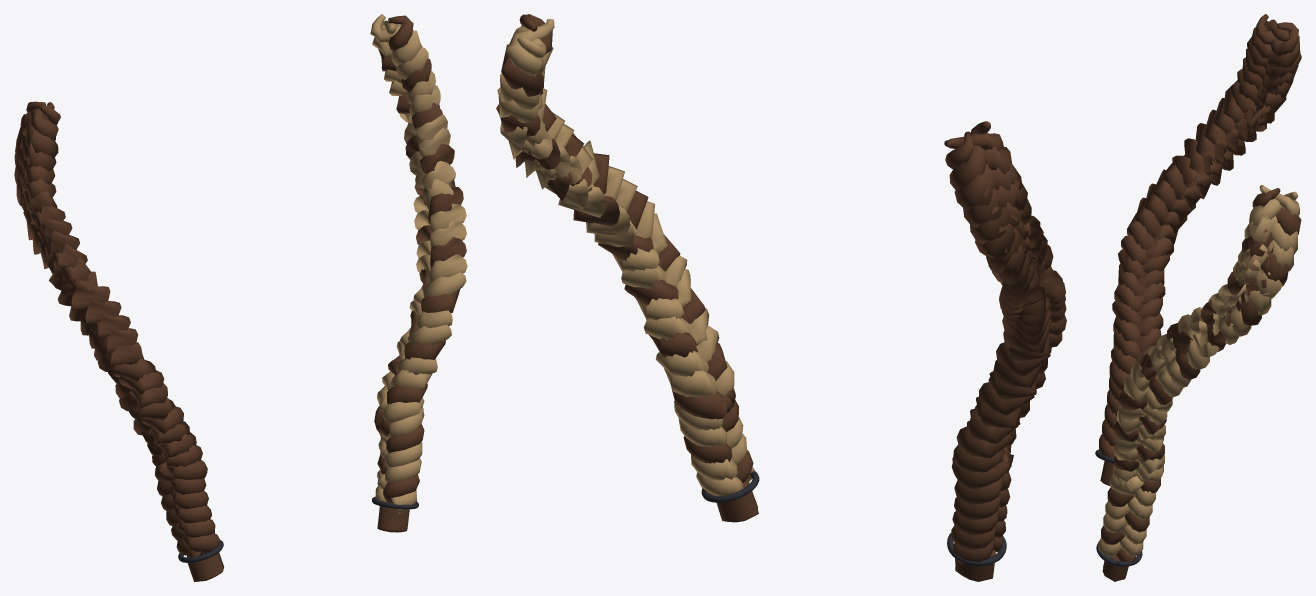
The model's file is Highlights-8e4863687820251-hair.glb.
3 views of the same model, side by side, from view 1: azimuth 30°, elevation 25°; view 2: azimuth 150°, elevation 25°; view 3: azimuth 270°, elevation 25° (orthographic). The views are drawn at different scales.
Visible parts, largest first — view 1: 226 hairLengths / Hair / chestnut226, 226 hairLengths / Hair / ties226; view 2: 226 hairLengths / Hair / chestnut226, 226 hairLengths / Hair / ties226; view 3: 226 hairLengths / Hair / chestnut226, 226 hairLengths / Hair / ties226.
Boxes of the visible parts, left/top/right/bottom form: 226 hairLengths / Hair / chestnut226: left=14, top=14, right=467, bottom=581; 226 hairLengths / Hair / ties226: left=178, top=496, right=418, bottom=562; 226 hairLengths / Hair / chestnut226: left=496, top=14, right=1066, bottom=581; 226 hairLengths / Hair / ties226: left=701, top=471, right=1006, bottom=566; 226 hairLengths / Hair / chestnut226: left=1098, top=14, right=1301, bottom=581; 226 hairLengths / Hair / ties226: left=1095, top=449, right=1142, bottom=566.
Bounding box in the file's own units: 1.03 × 1.05 × 0.4585.
